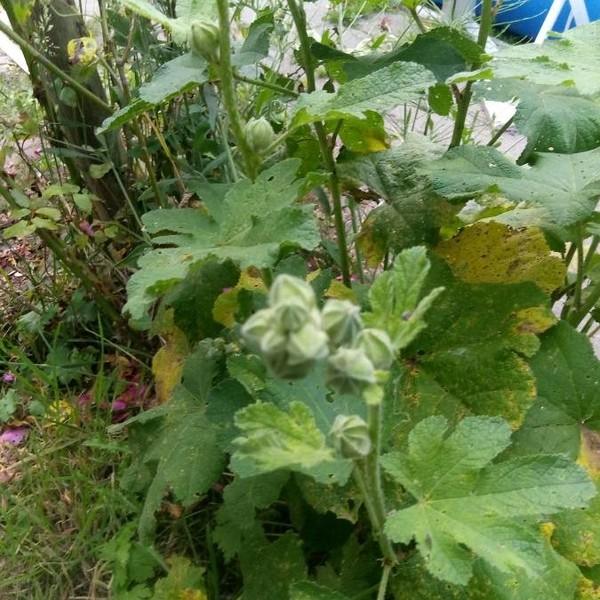obstacle: (132, 146, 532, 560), (269, 51, 589, 289)
